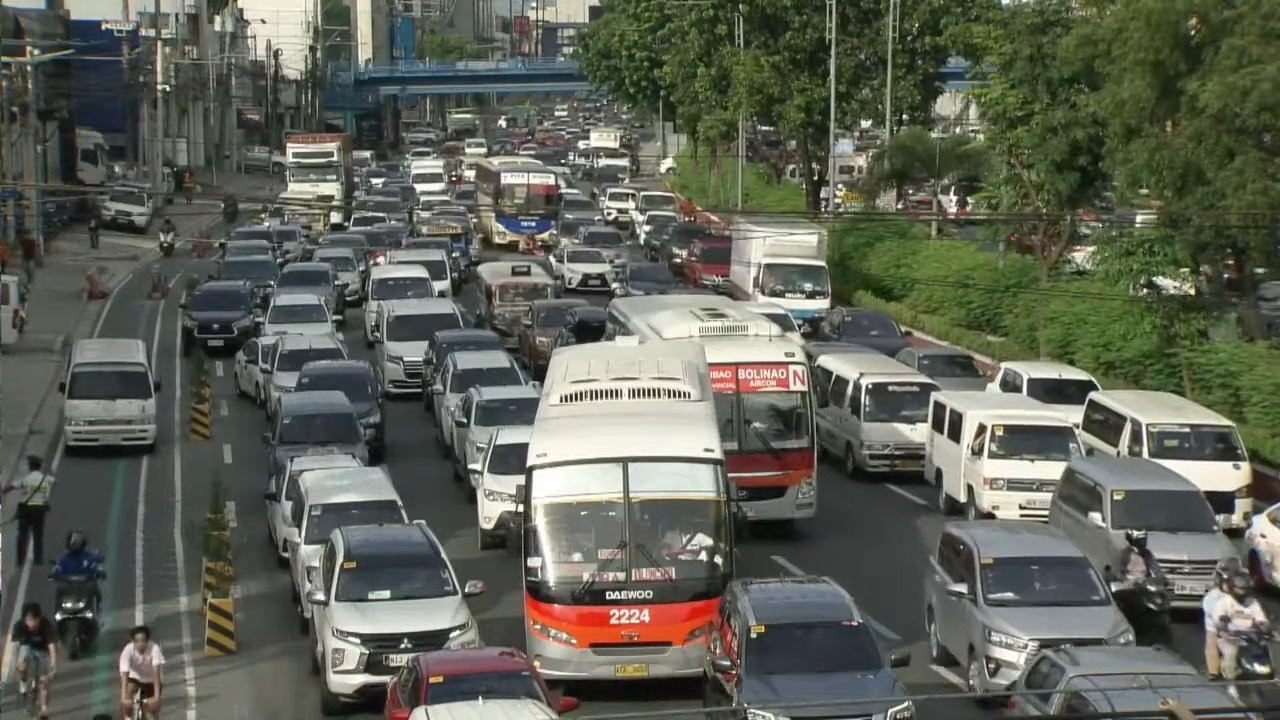bus: (516, 338, 735, 680), (606, 295, 817, 522), (475, 156, 559, 246), (445, 108, 481, 140)
car: (925, 520, 1134, 695), (305, 523, 484, 714), (704, 576, 914, 719), (283, 466, 407, 633), (1008, 647, 1247, 717), (383, 647, 579, 719), (264, 454, 360, 565), (431, 350, 531, 456), (296, 359, 385, 463), (369, 299, 464, 393), (263, 391, 367, 471), (467, 425, 531, 550), (454, 386, 539, 479), (260, 335, 347, 417), (180, 280, 259, 356), (362, 264, 435, 342), (517, 298, 588, 377), (816, 307, 912, 356), (423, 328, 504, 385), (273, 261, 344, 323), (895, 345, 989, 390), (311, 229, 384, 275), (651, 221, 711, 275), (312, 244, 363, 306), (233, 336, 277, 407), (260, 294, 334, 336), (493, 253, 563, 297), (216, 258, 278, 306), (739, 301, 805, 343), (98, 185, 155, 233), (683, 235, 731, 289), (553, 307, 607, 350), (611, 261, 676, 296), (630, 190, 678, 234), (576, 225, 626, 261), (637, 210, 679, 251), (271, 224, 305, 262), (223, 240, 273, 260), (225, 225, 274, 245), (450, 183, 477, 216), (348, 211, 390, 228), (403, 128, 440, 144)
motorcycle: (49, 564, 105, 659), (1111, 575, 1172, 646), (1229, 629, 1275, 706), (221, 200, 238, 224), (159, 232, 174, 256)
truck: (727, 215, 830, 329), (285, 132, 354, 228), (76, 127, 114, 185), (588, 127, 622, 149)
